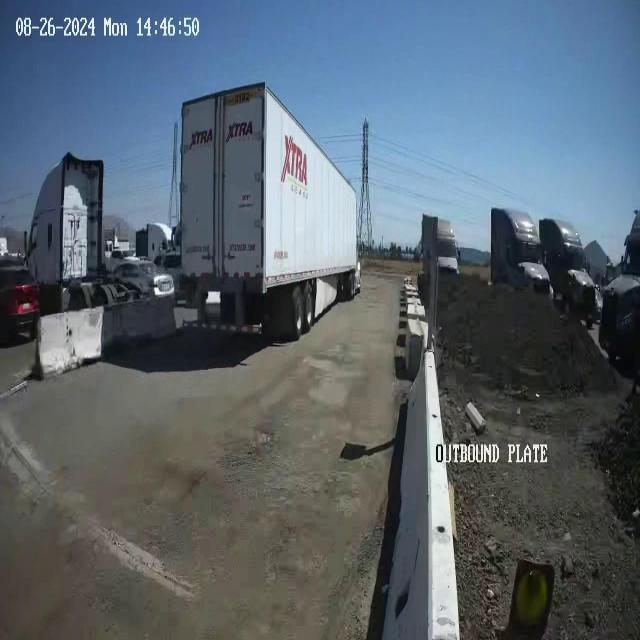TRUCK_CONTAINER: (178, 80, 360, 340)
